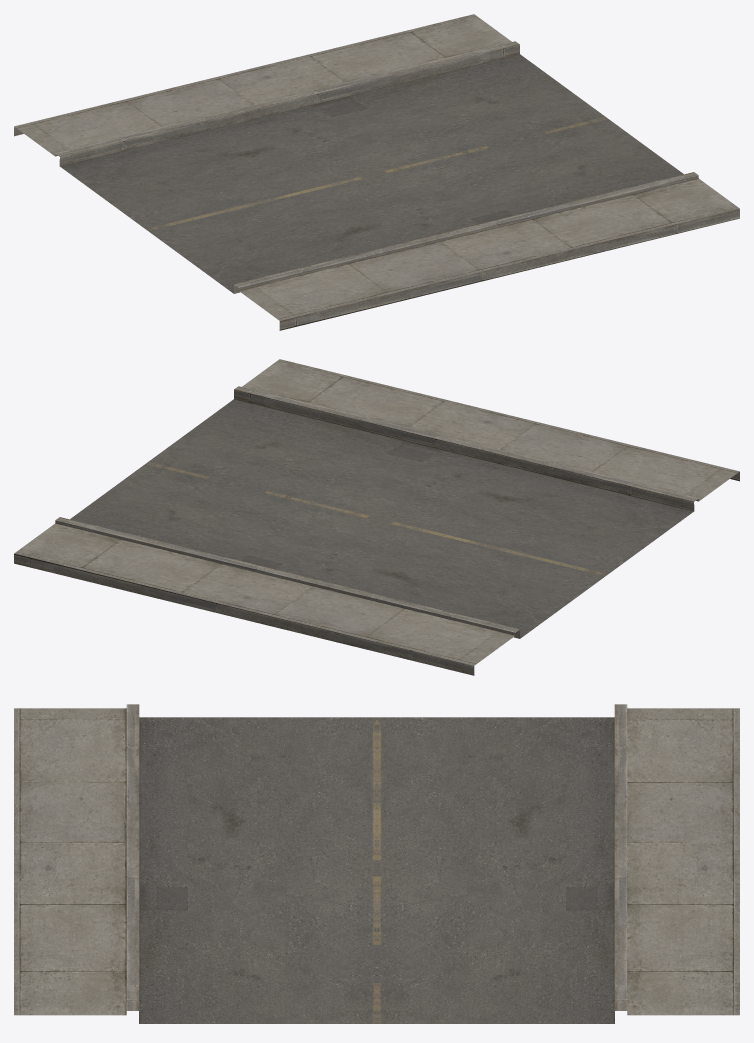
File: road_straight.glb
The picture shows the model from 3 angles, top to bottom: view 1: azimuth 30°, elevation 25°; view 2: azimuth 150°, elevation 25°; view 3: azimuth 270°, elevation 25°; orthographic projection. The views are drawn at different scales.
Parts seen in each view (by area): view 1: straight; view 2: straight; view 3: straight.
Boxes of the visible parts, x1,y1,x2,y2 form: straight: (14,14,739,330); straight: (14,359,739,675); straight: (14,704,739,1023).
Bounding box in the file's own units: 10 × 0.2709 × 10.
1 material, 1 textured.
